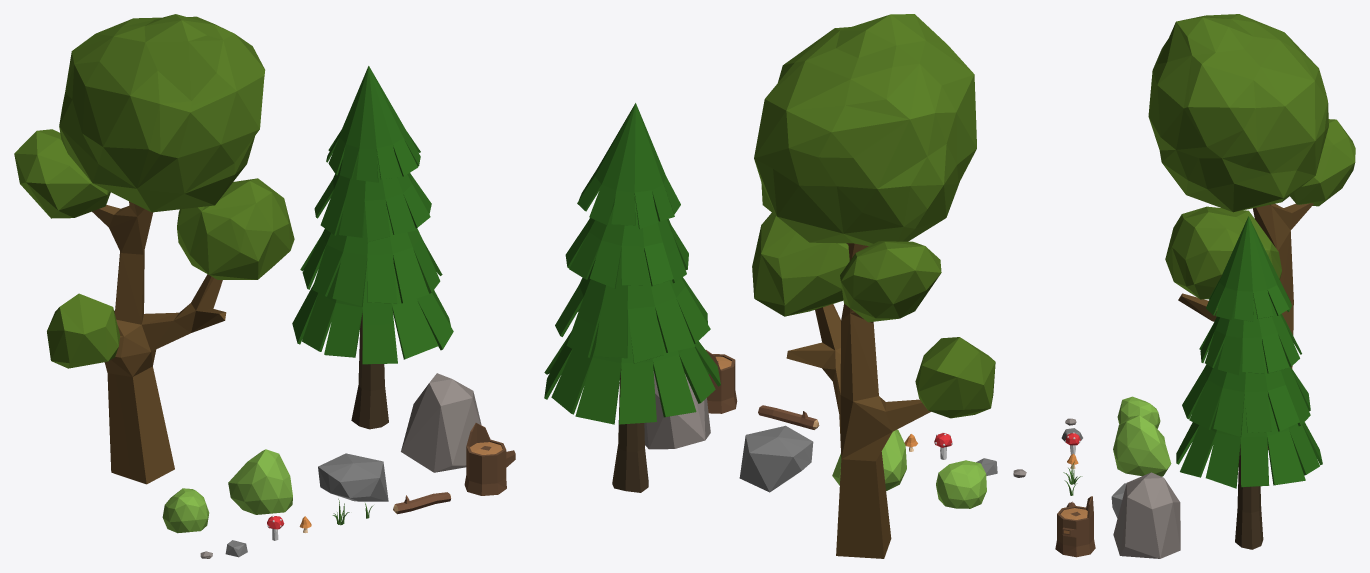
File: NatureFreePack1.fbx
3 renders of one model, left to right at view 1: azimuth 30°, elevation 25°; view 2: azimuth 150°, elevation 25°; view 3: azimuth 270°, elevation 25°, orthographic. The views are drawn at different scales.
Parts seen in each view (by area): view 1: Tree1, Tree2, Rock4, Bush1, Rock1, Stump1, Bush2, Branch; view 2: Tree1, Tree2, Rock1, Rock4, Bush2, Stump1, Bush1, Branch; view 3: Tree1, Tree2, Rock4, Bush1, Stump1, Bush2.
Part boxes in pixels (box(x1,y1,x2,y2)): Tree1: box(14, 14, 294, 484); Tree2: box(292, 66, 453, 429); Rock4: box(401, 373, 481, 472); Bush1: box(228, 449, 292, 514); Rock1: box(318, 453, 388, 501); Stump1: box(464, 423, 515, 495); Bush2: box(162, 488, 209, 533); Branch: box(393, 492, 451, 514); Tree1: box(752, 14, 995, 558); Tree2: box(544, 103, 720, 492); Rock1: box(739, 425, 813, 492); Rock4: box(644, 371, 710, 449); Bush2: box(936, 460, 986, 508); Stump1: box(706, 350, 737, 413); Bush1: box(832, 429, 906, 490); Branch: box(758, 405, 819, 429); Tree1: box(1148, 14, 1355, 449); Tree2: box(1176, 216, 1322, 549); Rock4: box(1113, 472, 1180, 558); Bush1: box(1113, 415, 1171, 476); Stump1: box(1055, 496, 1095, 557); Bush2: box(1117, 396, 1160, 428).
Size of the model in its own units: 18.92 by 22.24 by 13.63.
